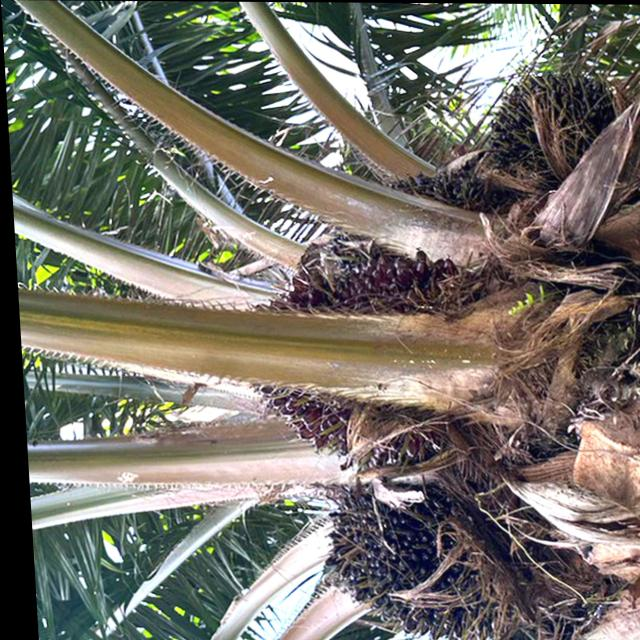ripe: (211, 234, 488, 472)
